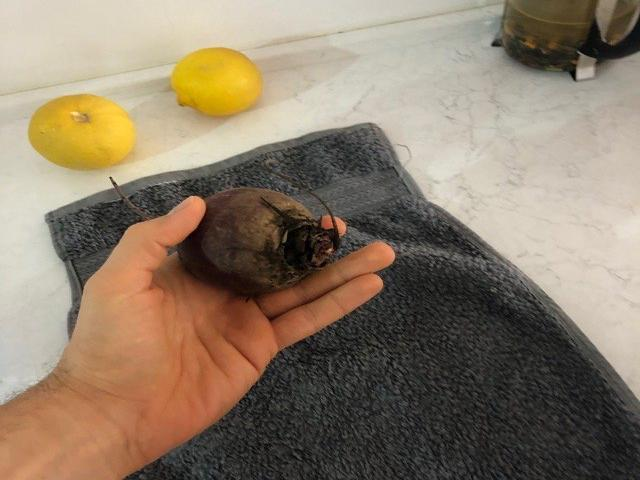beet: (108, 176, 338, 295)
